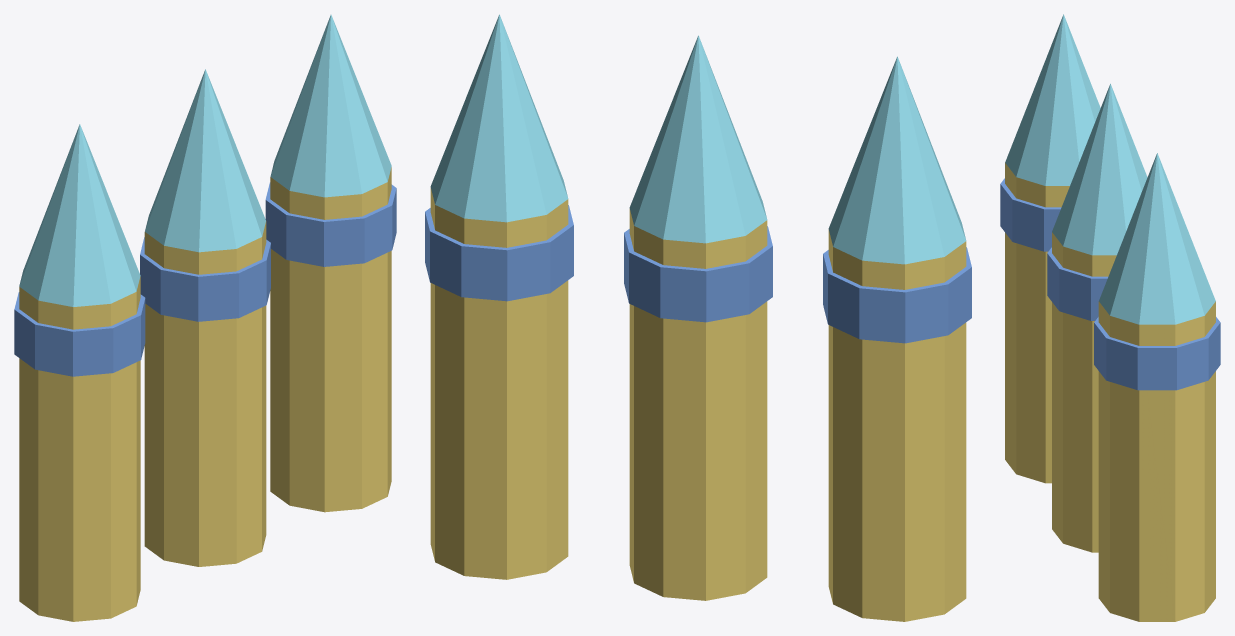
File: AmmoShock.fbx
3 views of the same model, side by side, from view 1: azimuth 30°, elevation 25°; view 2: azimuth 150°, elevation 25°; view 3: azimuth 270°, elevation 25° (orthographic). The views are drawn at different scales.
Parts seen in each view (by area): view 1: Body; view 2: Body; view 3: Body.
Boxes of the visible parts, x1=… form: Body: x1=14, y1=14, x2=396, y2=621; Body: x1=425, y1=14, x2=971, y2=621; Body: x1=1000, y1=14, x2=1220, y2=621.
Size of the model in its own units: 0.1914 by 0.21 by 0.094.
